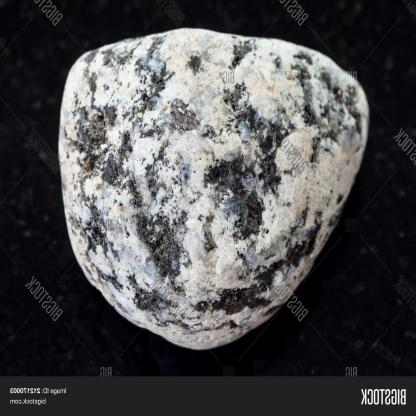Igneous_Diorite: (52, 19, 376, 354)
